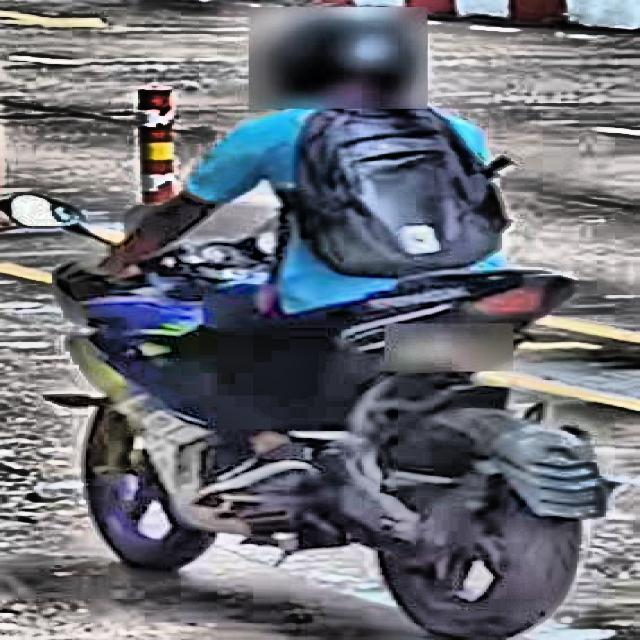motorcycle: (11, 194, 612, 640)
